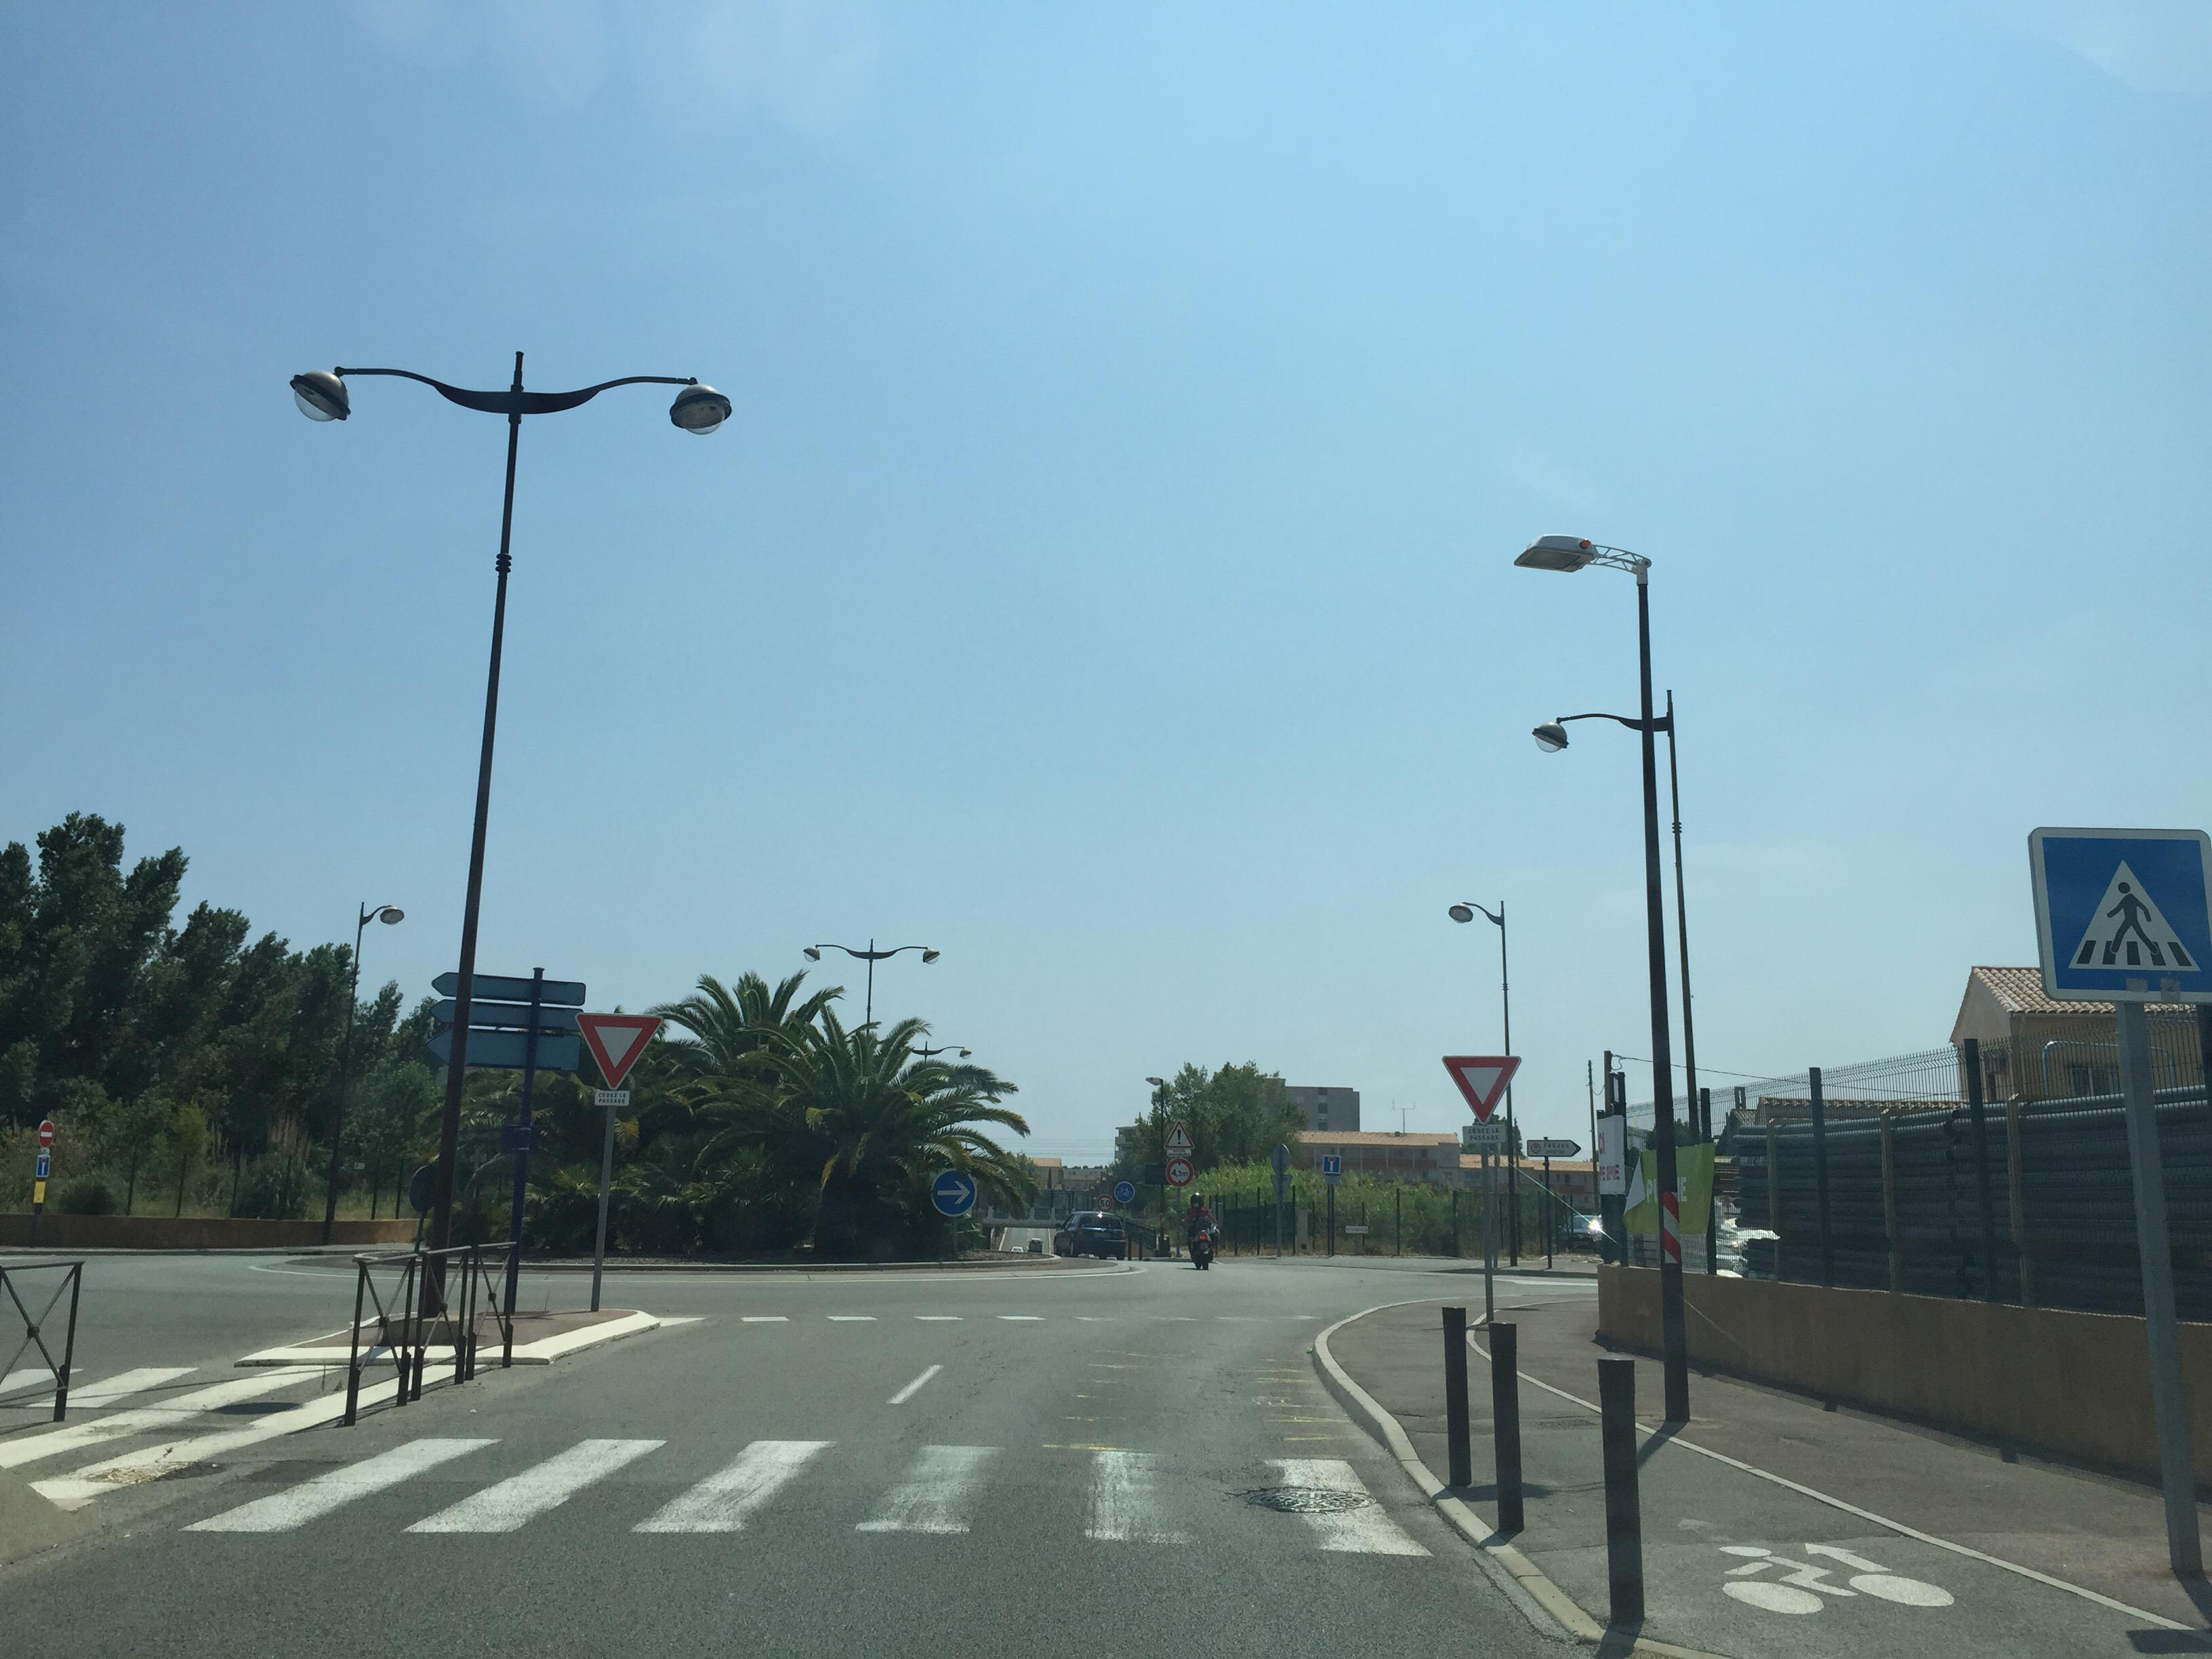vinyl banner: (1618, 1134, 1745, 1290)
